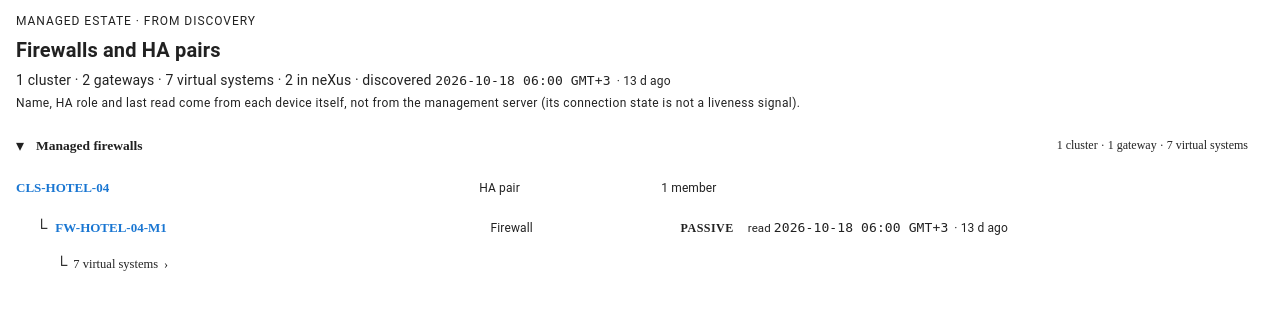
Test: Panorama managed estate: n virtual systems › (P2-5B, roadmap 3.4) › shows one disclosure line per gateway and opens every name on demand
The image size is (1265, 329).
Expected: the text "VS-HOTEL-04-88" is not shown
Step 1. Click the button with aria-label "7 virtual systems in FW-HOTEL-04-M1" → (112, 265), box [56,248,168,282]
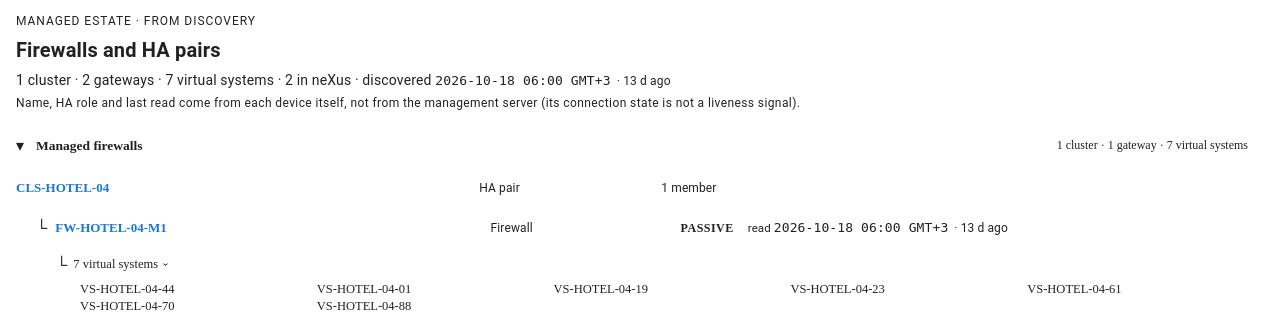
Step 2. Click the button with aria-label "7 virtual systems in FW-HOTEL-04-M1" → (112, 265), box [56,248,168,282]
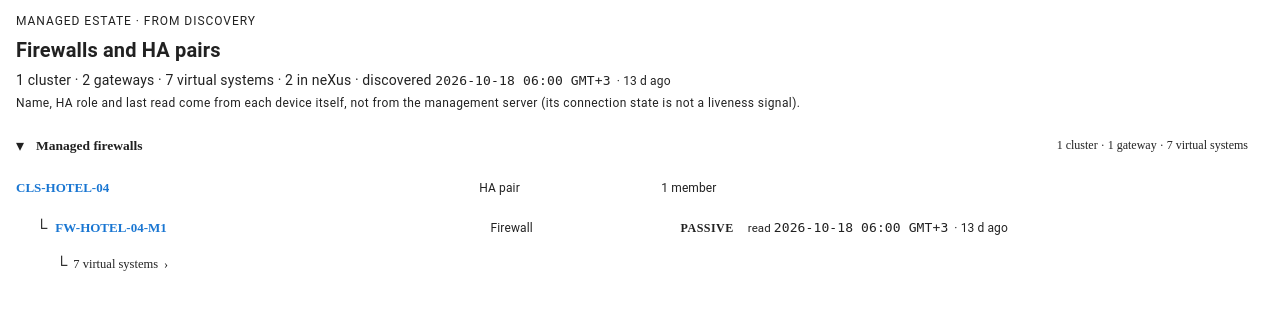
Expected: the list item "VS-HOTEL-04-88" is gone
